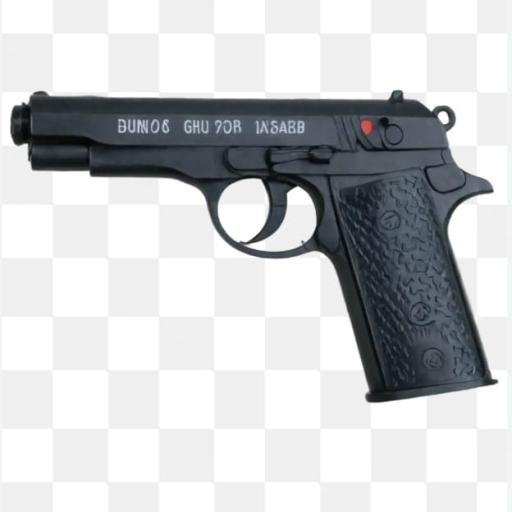Gun: (12, 90, 495, 400)
